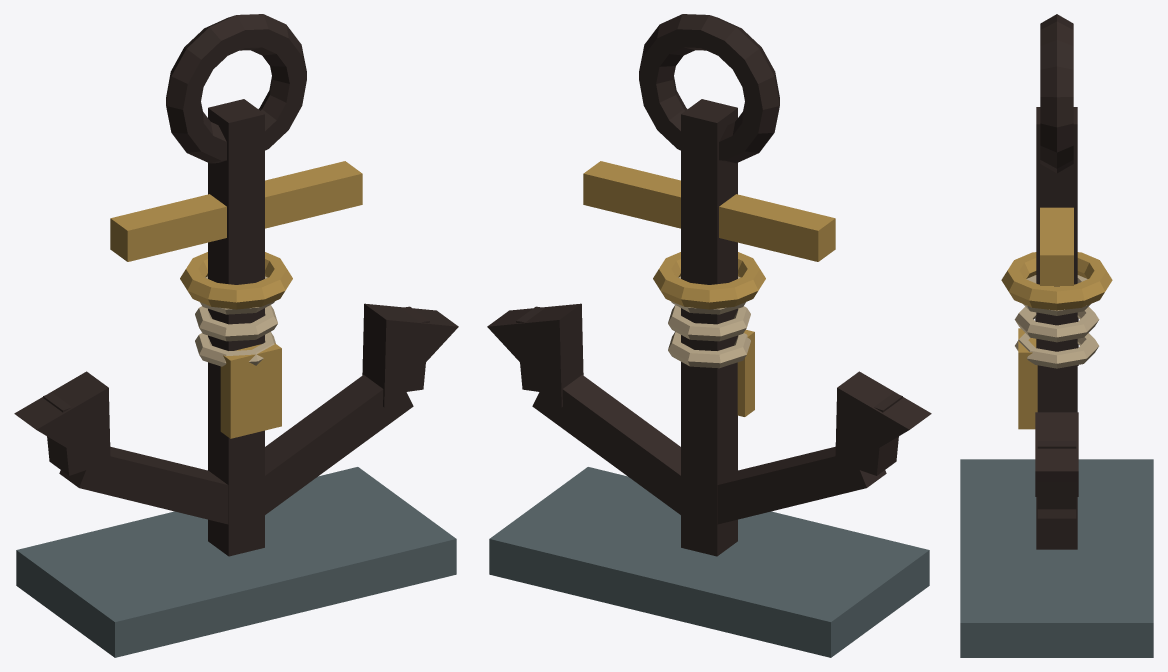
File: PirateCove_Anchor_Showcase.glb
3 views of the same model, side by side, from view 1: azimuth 30°, elevation 25°; view 2: azimuth 150°, elevation 25°; view 3: azimuth 270°, elevation 25° (orthographic).
Parts seen in each view (by area): view 1: PirateCove_Anchor_Showcase; view 2: PirateCove_Anchor_Showcase; view 3: PirateCove_Anchor_Showcase.
Boxes of the visible parts, x1,y1,x2,y2 form: PirateCove_Anchor_Showcase: (14,14,458,657); PirateCove_Anchor_Showcase: (487,14,931,657); PirateCove_Anchor_Showcase: (960,14,1153,657).
Bounding box in the file's own units: 1.98 × 2.53 × 0.8.
